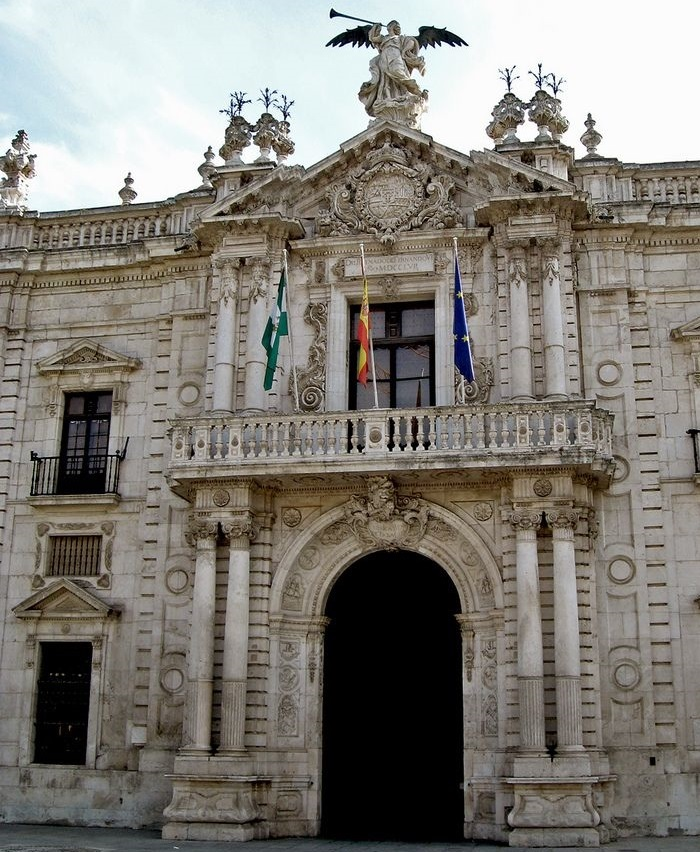arco-medio-punto: (311, 538, 481, 648)
fronton: (6, 574, 113, 627), (31, 336, 142, 382)
fronton-partido: (189, 116, 581, 229)
vano-adintelado: (322, 276, 453, 452), (15, 629, 112, 771), (30, 376, 130, 506)
